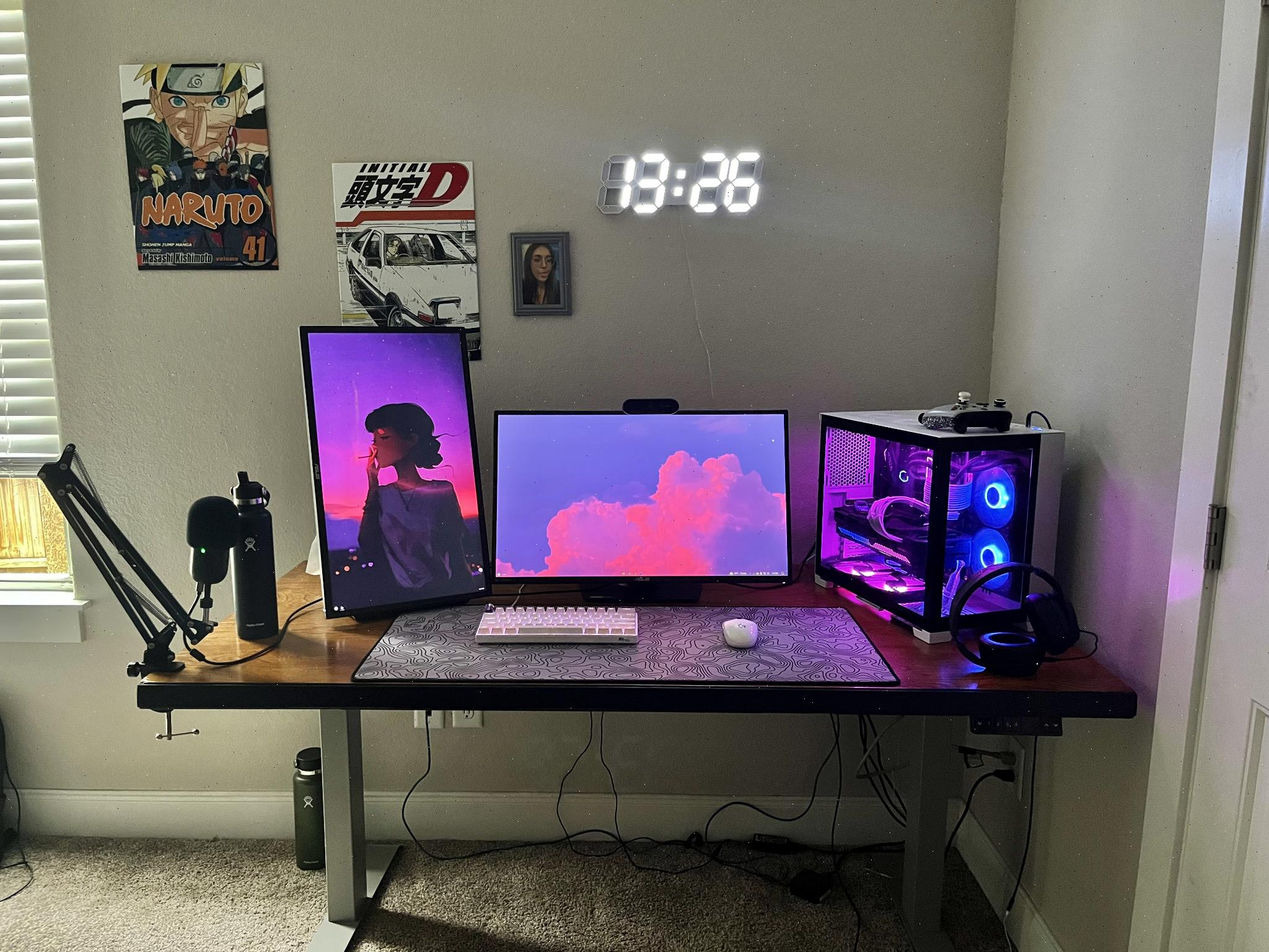head_phone: (941, 552, 1097, 676)
joy_game: (913, 389, 1017, 440)
keyboard: (466, 597, 652, 656)
mic: (171, 489, 249, 596)
monitor: (295, 318, 499, 614), (489, 404, 796, 588)
mouse: (710, 608, 775, 663)
pc: (810, 395, 1043, 642)
webcam: (619, 392, 683, 420)
